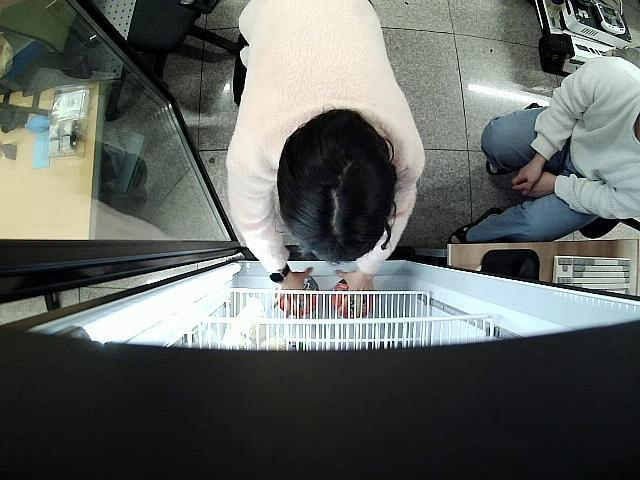01_ShinRamen_L: (274, 271, 319, 320), (332, 280, 371, 318)
